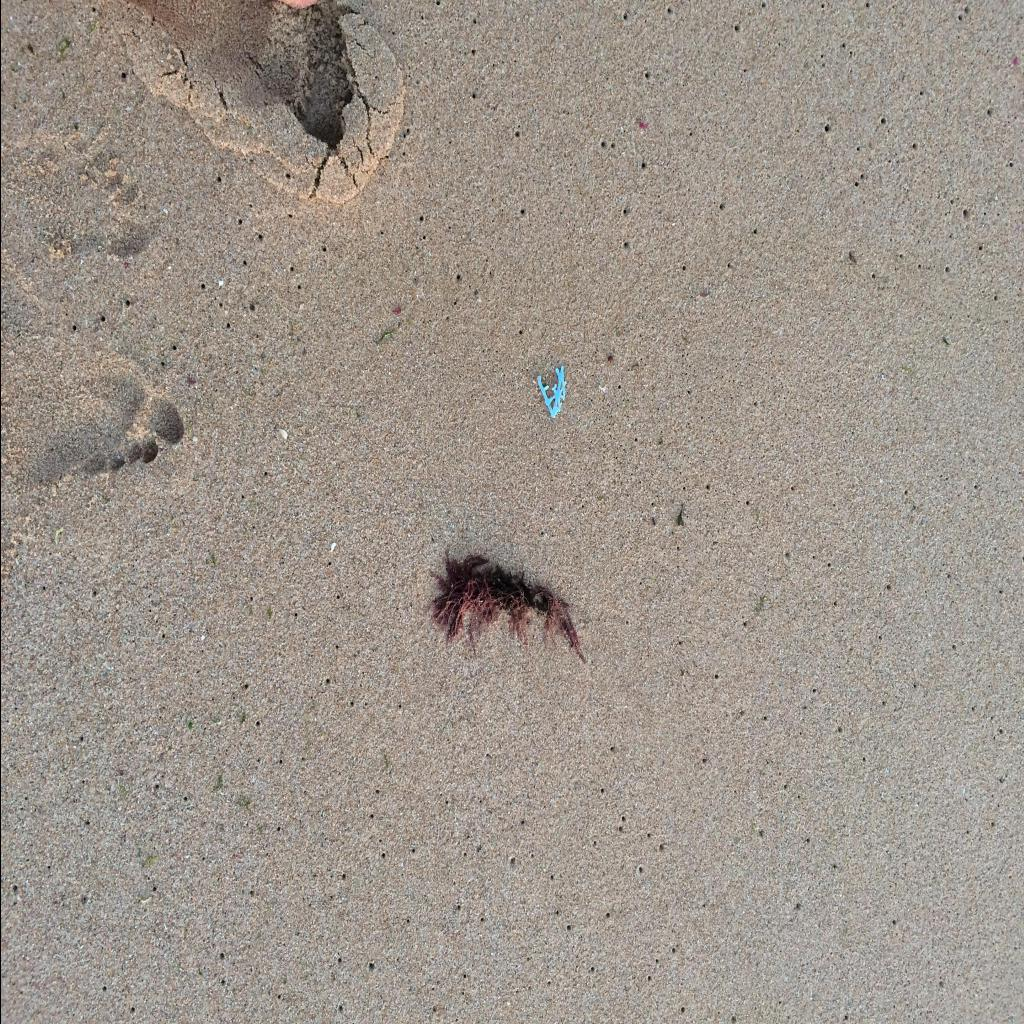Other plastic wrapper: (536, 366, 566, 418)
